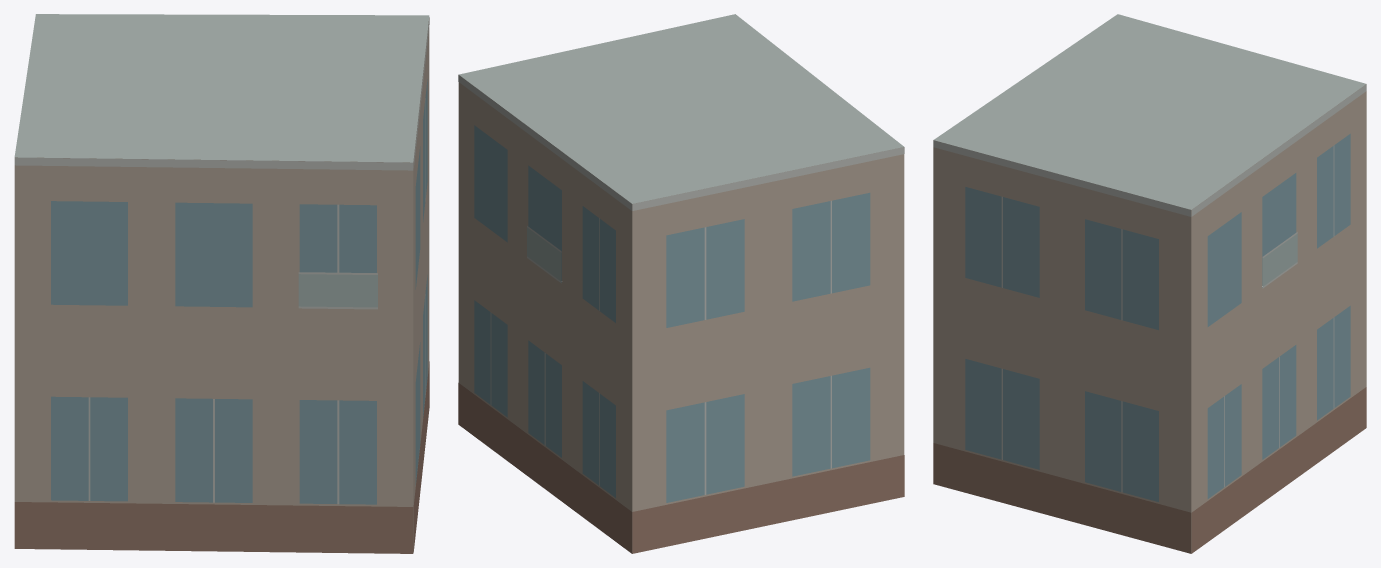
The model's file is survey-upis-32855799.glb.
3 views of the same model, side by side, from view 1: azimuth 30°, elevation 25°; view 2: azimuth 150°, elevation 25°; view 3: azimuth 270°, elevation 25° (orthographic). The views are drawn at different scales.
Parts seen in each view (by area): view 1: survey-upis-32855799.tmp; view 2: survey-upis-32855799.tmp; view 3: survey-upis-32855799.tmp.
Part boxes in pixels (left/top/right/bottom): survey-upis-32855799.tmp: left=14, top=14, right=429, bottom=553; survey-upis-32855799.tmp: left=458, top=14, right=904, bottom=553; survey-upis-32855799.tmp: left=933, top=14, right=1366, bottom=553.
Size of the model in its own units: 14.47 by 11.84 by 13.53.
